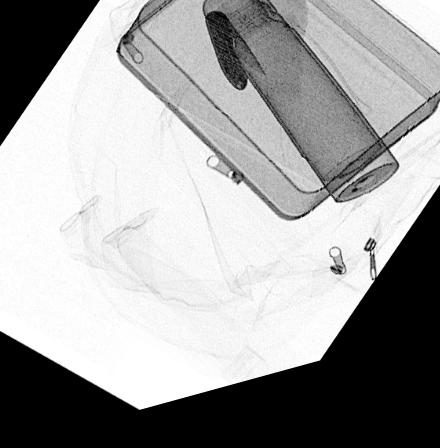Knife: (202, 21, 269, 106)
